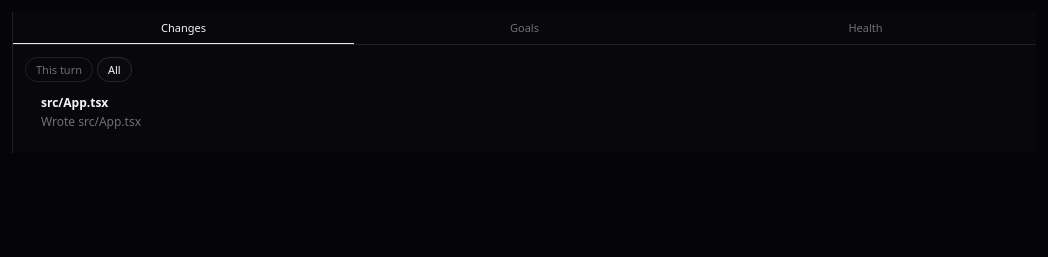
InspectorDrawer › expands a change to show the unified diff
The width and height of the screenshot is (1048, 257).
Expected: the text "-old" is not shown
Click the button "src/App.tsx Wrote src/App.tsx": (75, 102) [41, 94, 1016, 131]
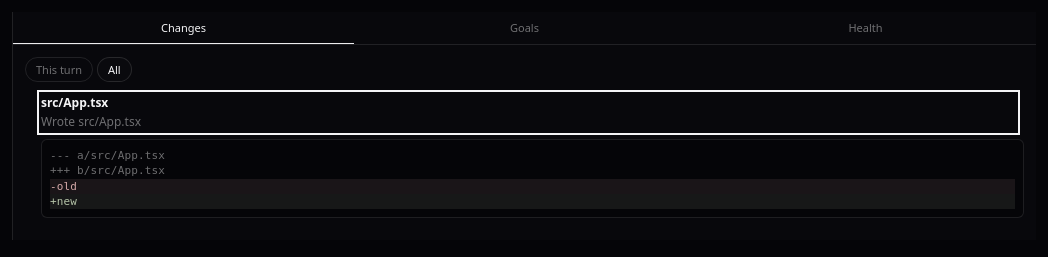
Result: the text named "removed." reads "-old" at [50, 180, 77, 193]
Result: the text named "added." reads "+new" at [50, 195, 77, 208]
